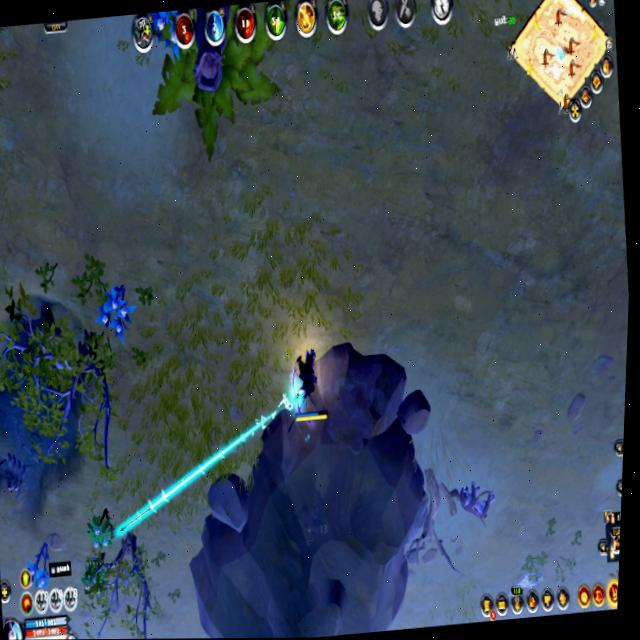hide: (94, 279, 137, 346), (147, 9, 192, 60), (23, 534, 57, 594), (84, 504, 119, 554)
mob: (451, 472, 501, 529)
red: (284, 343, 331, 428)
